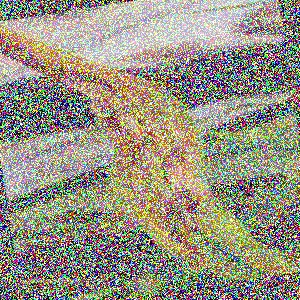Brown_Spot: (68, 73, 147, 161), (147, 203, 205, 250), (167, 181, 222, 227)
